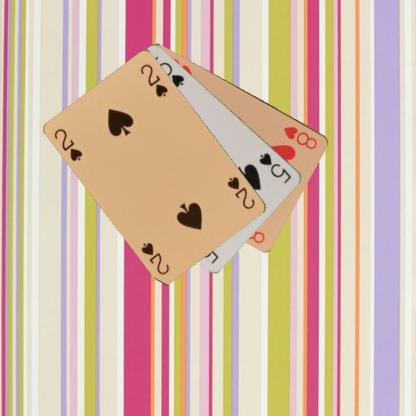2s: (52, 125, 84, 163), (224, 174, 256, 211)
5s: (256, 150, 293, 185)
8h: (281, 124, 319, 150)
